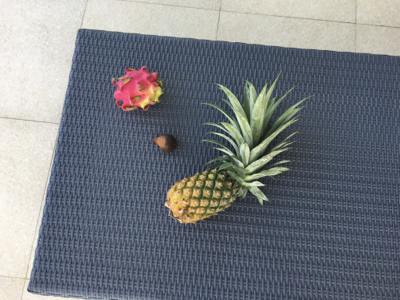dragon fruit: (112, 67, 163, 113)
pineapple: (165, 70, 314, 225)
snake fruit: (154, 135, 180, 153)
